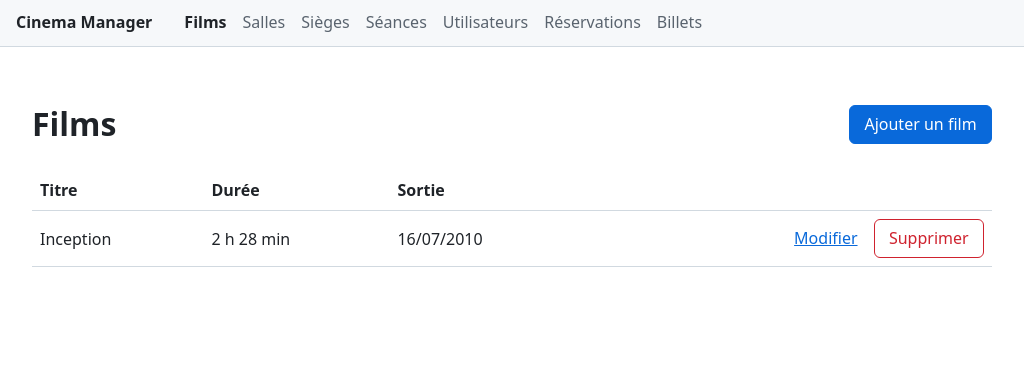
it: MoviesPage › explains why a movie with screenings cannot be deleted
Click the button "Supprimer": [929, 238] box [874,219,984,258]
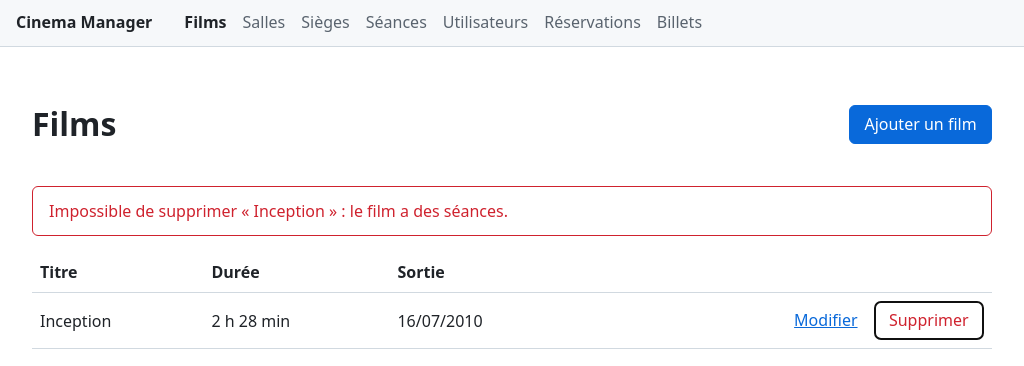
Now the message reads "Impossible de supprimer « Inception » : le film a des séances.", box [49,200,508,222]
